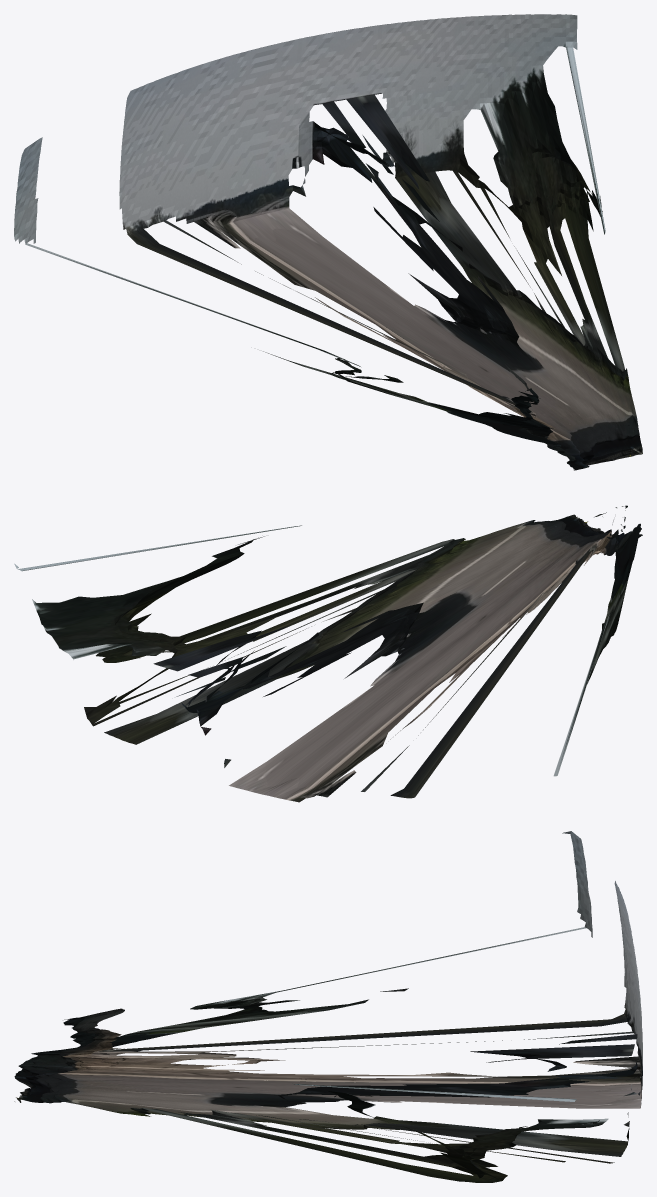
The picture shows the model from 3 angles, top to bottom: view 1: azimuth 30°, elevation 25°; view 2: azimuth 150°, elevation 25°; view 3: azimuth 270°, elevation 25°; orthographic projection. The views are drawn at different scales.
Visible parts, largest first — view 1: defaultobject; view 2: defaultobject; view 3: defaultobject.
Boxes of the visible parts, x1=… form: defaultobject: x1=14, y1=14, x2=642, y2=470; defaultobject: x1=14, y1=505, x2=642, y2=802; defaultobject: x1=14, y1=831, x2=642, y2=1182.
Size of the model in its own units: 40.94 by 12.36 by 44.43.
Materials: 1 (1 with a texture image).
